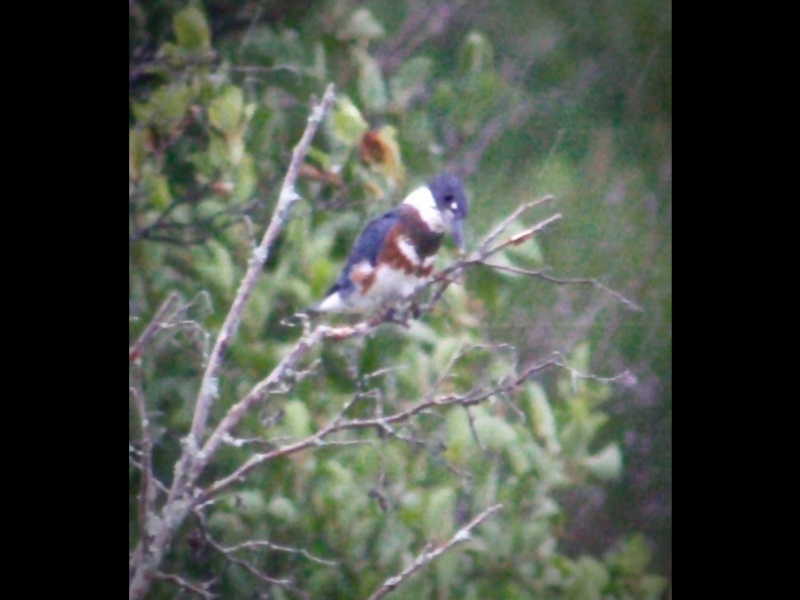kingfisher: (312, 172, 472, 325)
